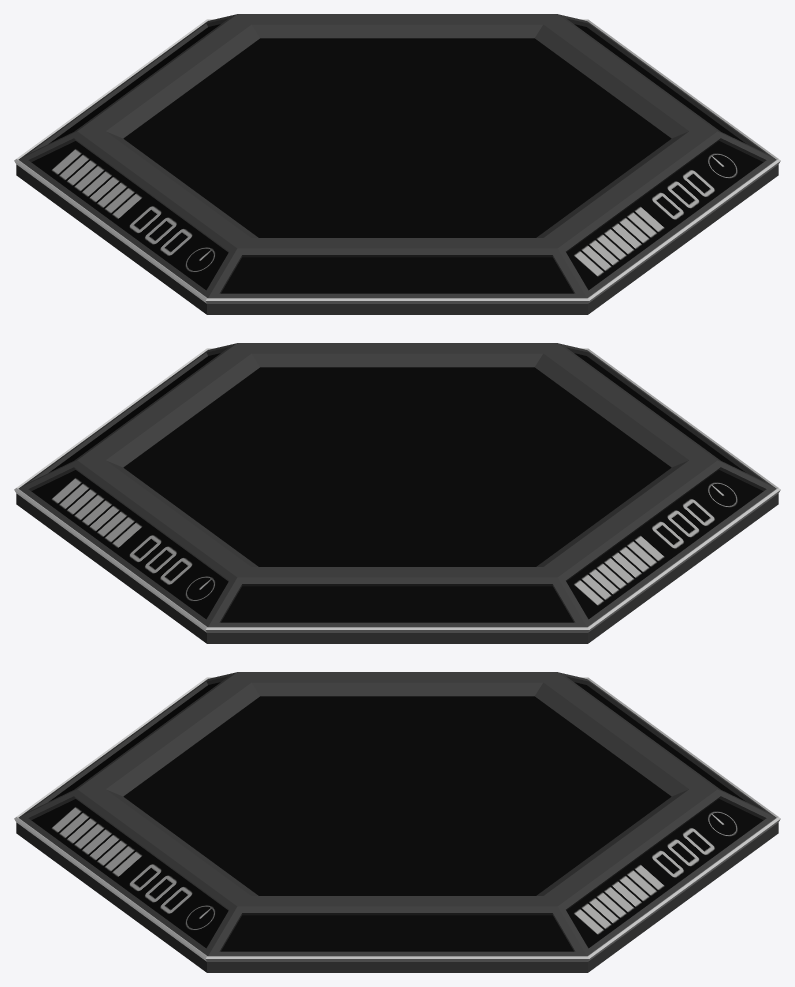
File: Teleport Pad Inactive.fbx
The picture shows the model from 3 angles, top to bottom: view 1: azimuth 30°, elevation 25°; view 2: azimuth 150°, elevation 25°; view 3: azimuth 270°, elevation 25°; orthographic projection.
Visible parts, largest first — view 1: LandingPad_1; view 2: LandingPad_1; view 3: LandingPad_1.
Boxes of the visible parts, <box> form: LandingPad_1: <box>14,14,780,314</box>; LandingPad_1: <box>14,343,780,643</box>; LandingPad_1: <box>14,672,780,972</box>.
Bounding box in the file's own units: 81.91 × 6 × 94.58.
Materials: 4 (1 with a texture image).
